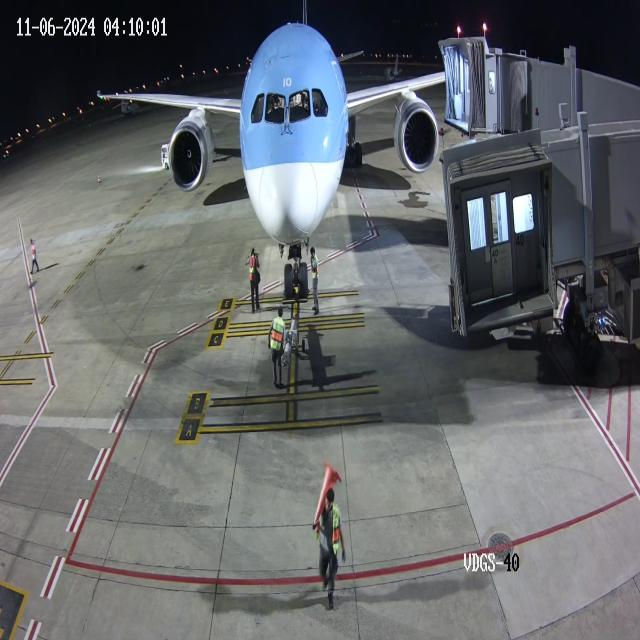bridge: (471, 29, 531, 141)
plane: (88, 2, 434, 310)
window: (247, 77, 331, 134)
